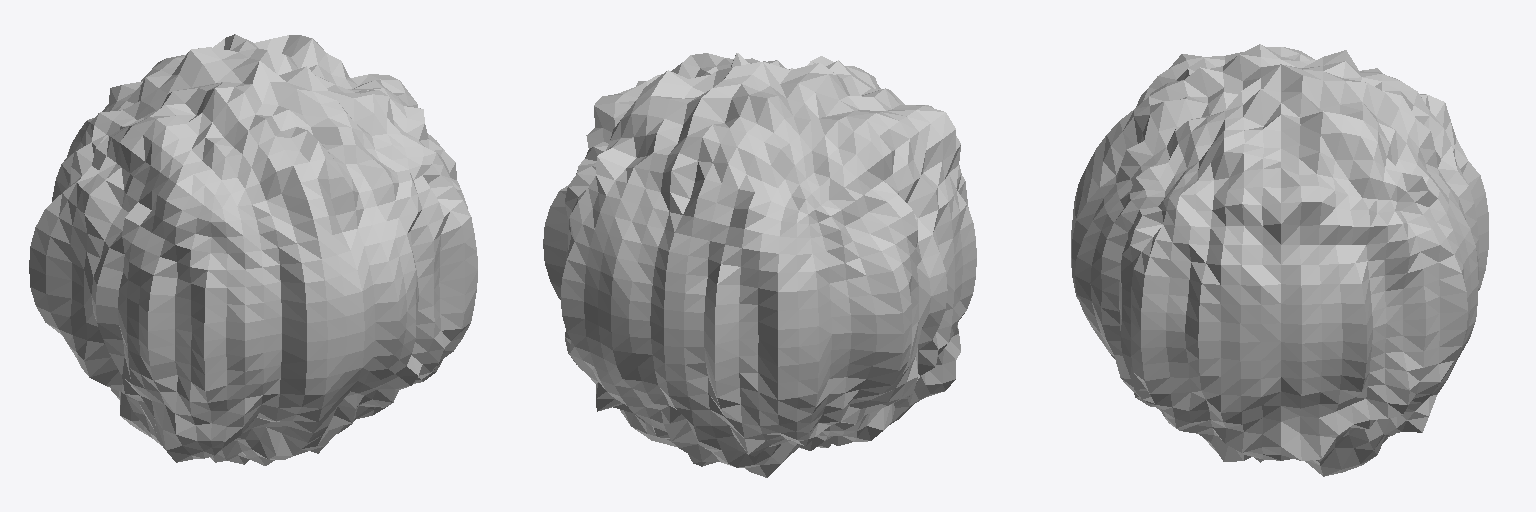
Rendered from asteroid160.obj.
3 renders of one model, left to right at view 1: azimuth 30°, elevation 25°; view 2: azimuth 150°, elevation 25°; view 3: azimuth 270°, elevation 25°, orthographic.
Parts seen in each view (by area): view 1: Cube_Cube.002; view 2: Cube_Cube.002; view 3: Cube_Cube.002.
Part boxes in pixels (left/top/right/bottom): Cube_Cube.002: left=29, top=34, right=477, bottom=465; Cube_Cube.002: left=543, top=53, right=976, bottom=477; Cube_Cube.002: left=1071, top=44, right=1488, bottom=476.
Bounding box in the file's own units: 1.78 × 1.82 × 1.78.